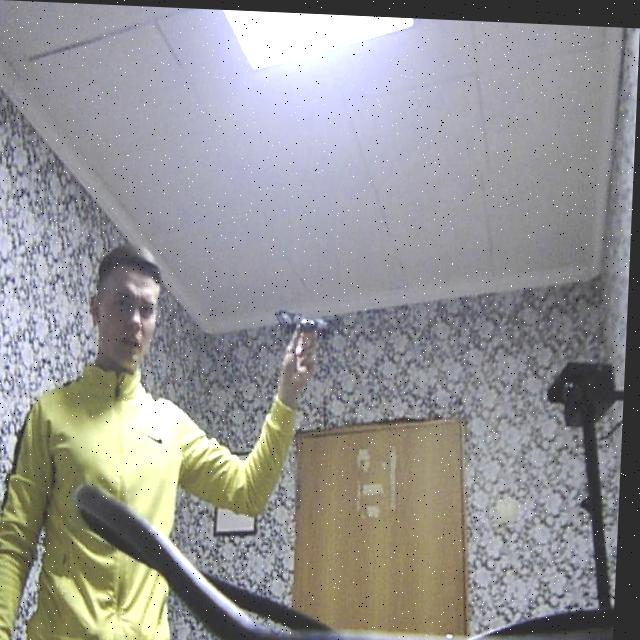drone: (277, 290, 354, 345)
